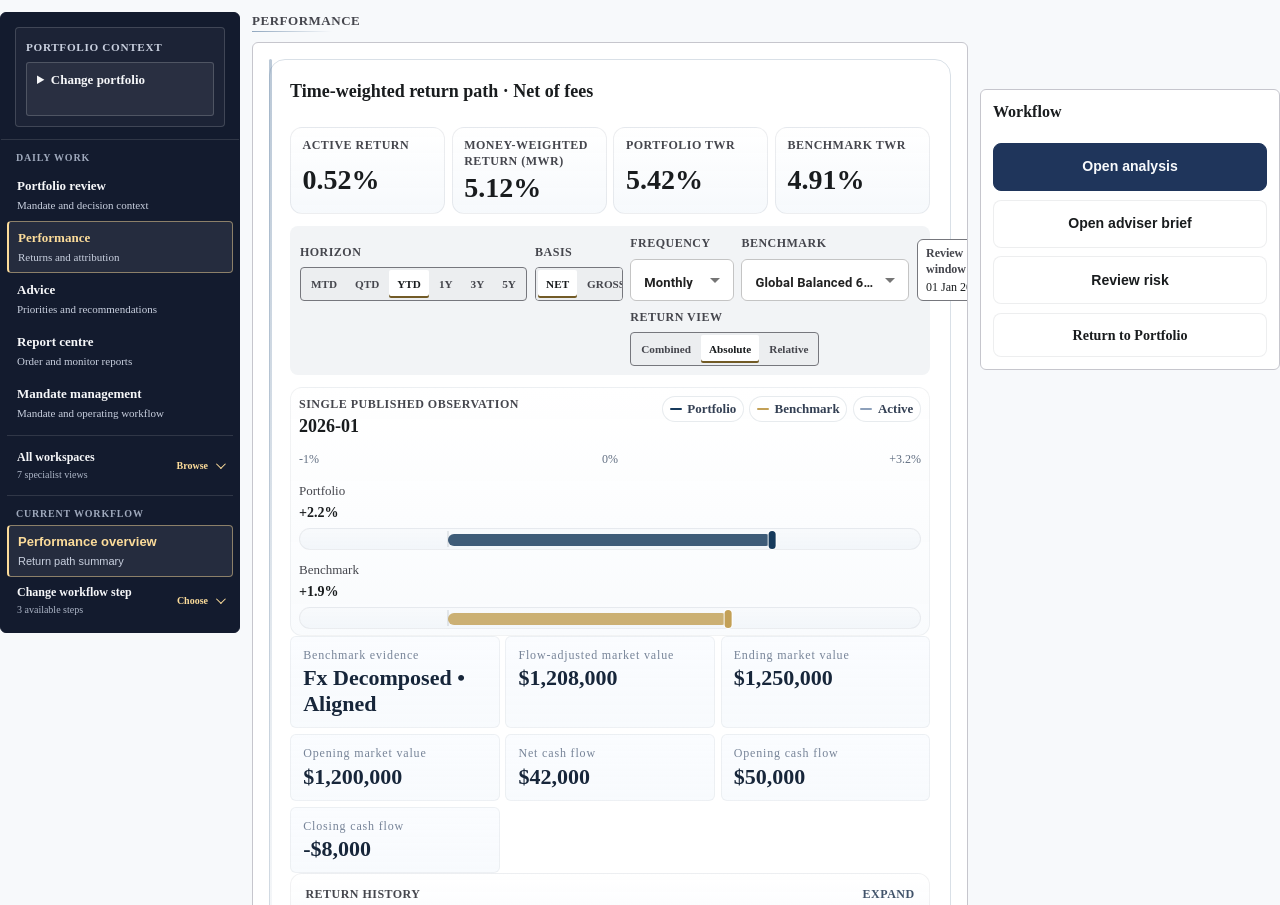
Scenario: PerformanceWorkspaceView › disables unavailable evidence mode instead of mounting a dead panel
Click the button "Performance overview Return path summary" at (120,551), box [7,525,233,577]
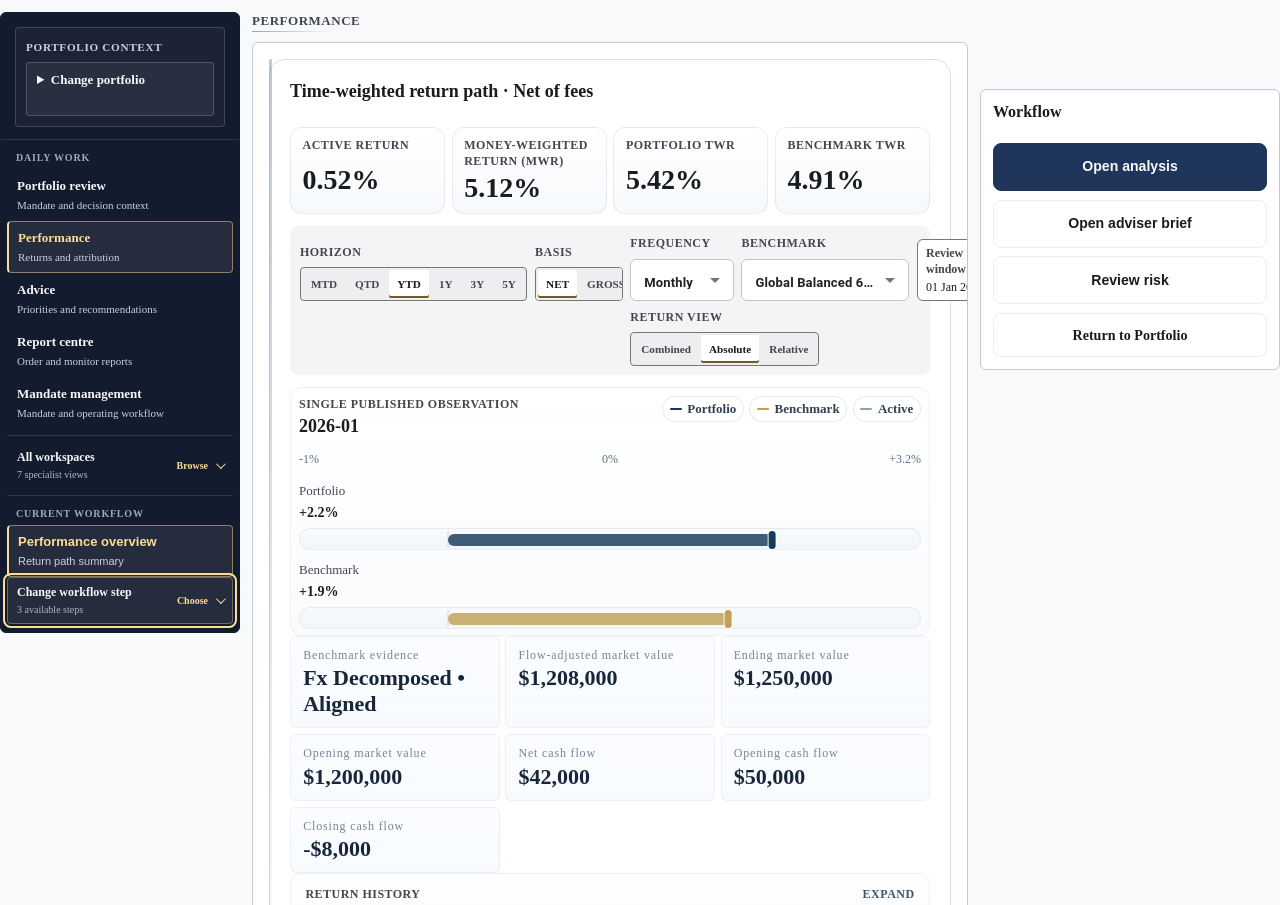
Click the button "Change workflow step 3 available steps Choose" at (120,600), box [7,577,233,624]
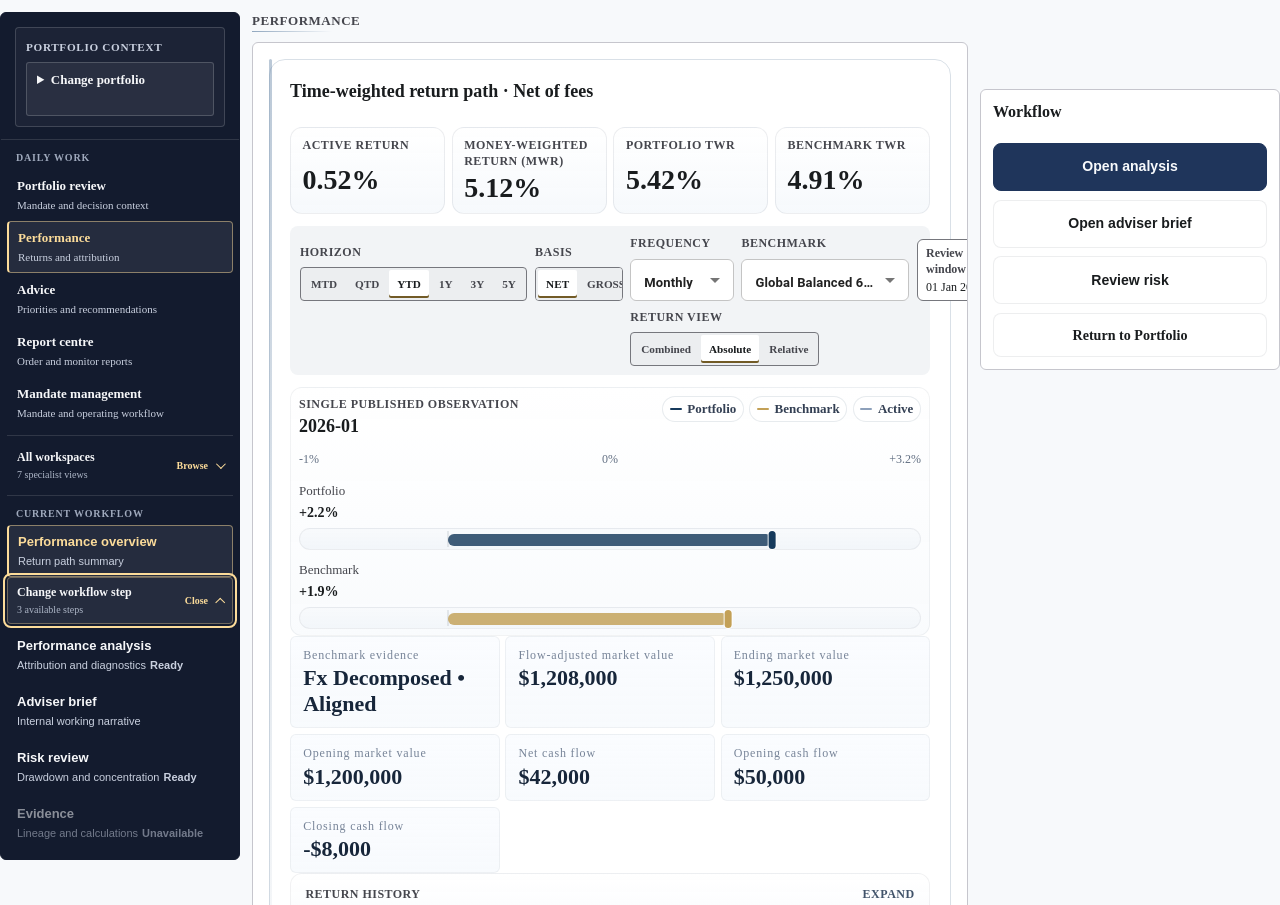
Result: the button "Evidence" is disabled at [7,797,233,849]
